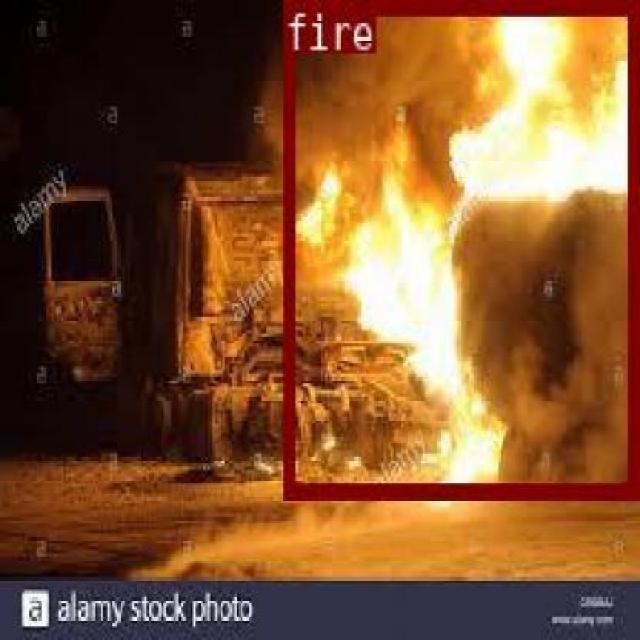Fire: (282, 0, 636, 494)
